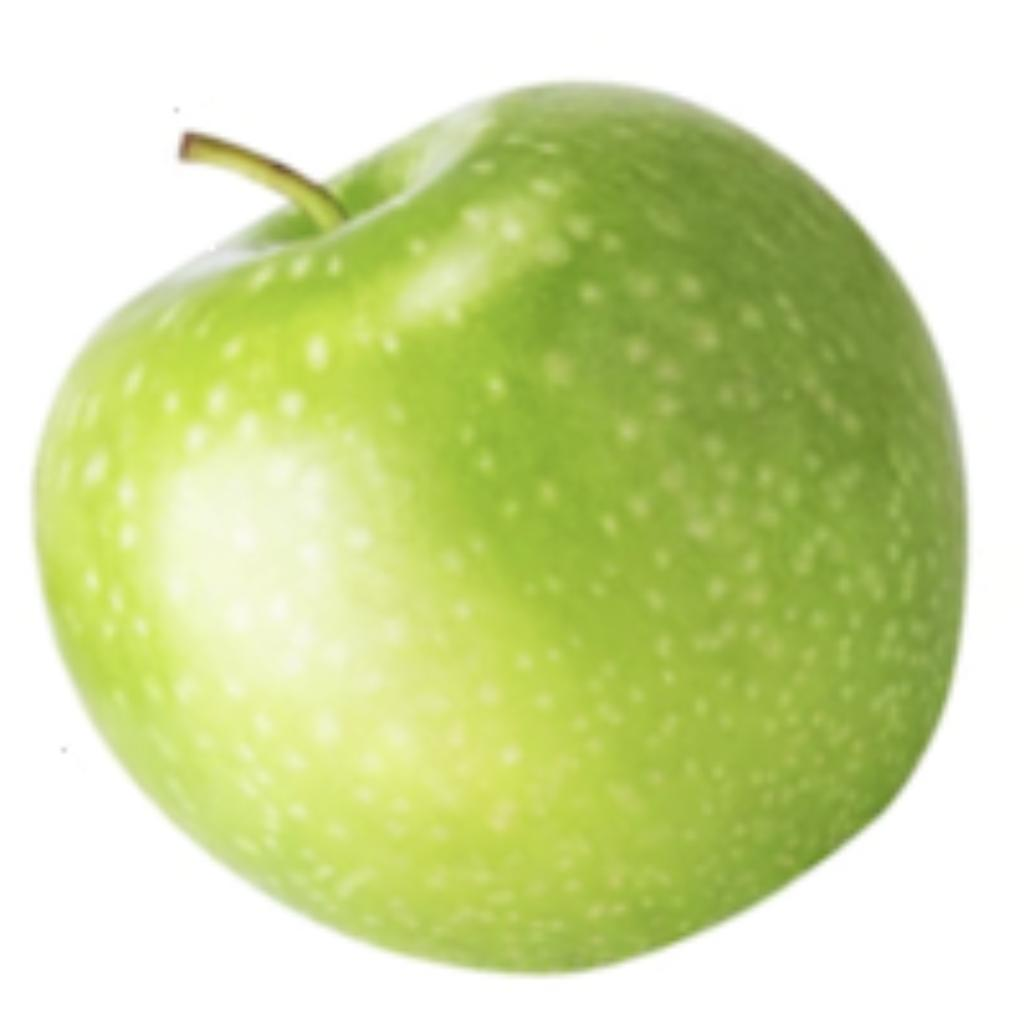apple: (26, 72, 973, 978)
